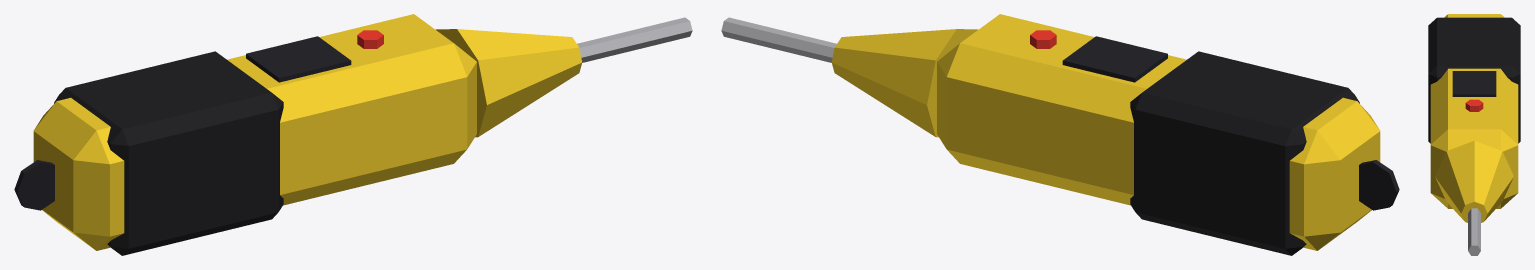
File: tool.tone-probe.glb
3 views of the same model, side by side, from view 1: azimuth 30°, elevation 25°; view 2: azimuth 150°, elevation 25°; view 3: azimuth 270°, elevation 25° (orthographic). The views are drawn at different scales.
Visible parts, largest first — view 1: body, grip, nose, speaker, tip, lanyard, led; view 2: body, grip, nose, speaker, tip, lanyard, led; view 3: body, grip, nose, speaker, tip, led.
Boxes of the visible parts, x1=… form: body: x1=33, y1=14, x2=476, y2=250; grip: x1=54, y1=51, x2=283, y2=255; nose: x1=436, y1=29, x2=582, y2=137; speaker: x1=246, y1=36, x2=351, y2=82; tip: x1=577, y1=17, x2=692, y2=62; lanyard: x1=14, y1=160, x2=54, y2=210; led: x1=357, y1=30, x2=383, y2=48; body: x1=937, y1=14, x2=1380, y2=250; grip: x1=1130, y1=51, x2=1359, y2=255; nose: x1=831, y1=29, x2=977, y2=137; speaker: x1=1062, y1=36, x2=1167, y2=82; tip: x1=721, y1=17, x2=836, y2=62; lanyard: x1=1359, y1=160, x2=1399, y2=210; led: x1=1030, y1=30, x2=1056, y2=48; body: x1=1430, y1=14, x2=1518, y2=208; grip: x1=1428, y1=17, x2=1520, y2=143; nose: x1=1435, y1=140, x2=1513, y2=222; speaker: x1=1452, y1=71, x2=1496, y2=96; tip: x1=1468, y1=208, x2=1480, y2=255; led: x1=1465, y1=99, x2=1483, y2=111.
Size of the model in its own units: 0.233 by 0.044 by 0.042.
